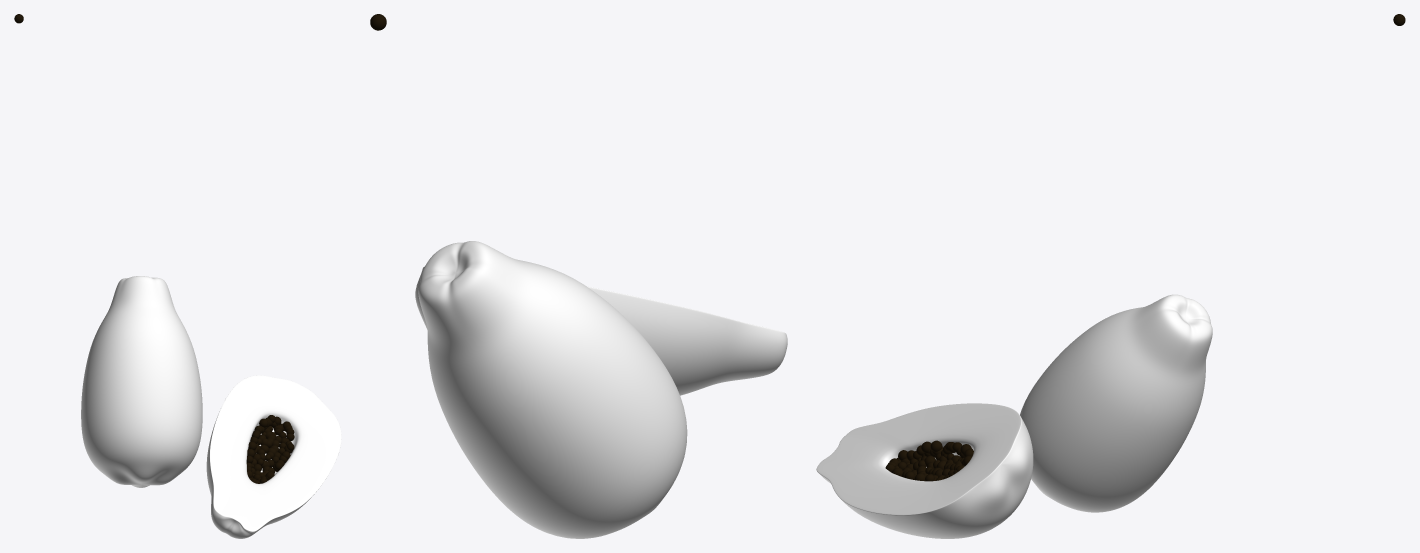
The model's file is Papaya.glb.
The picture shows the model from 3 angles, left to right: view 1: azimuth 30°, elevation 25°; view 2: azimuth 150°, elevation 25°; view 3: azimuth 270°, elevation 25°; orthographic projection. The views are drawn at different scales.
Visible parts, largest first — view 1: Sphere.101, Sphere.102; view 2: Sphere.101, Sphere.102; view 3: Sphere.101, Sphere.102.
Boxes of the visible parts, bbox=[...] form: Sphere.101: bbox=[81, 276, 202, 487]; Sphere.102: bbox=[206, 375, 341, 538]; Sphere.101: bbox=[418, 241, 687, 538]; Sphere.102: bbox=[415, 266, 787, 395]; Sphere.101: bbox=[1020, 294, 1212, 512]; Sphere.102: bbox=[816, 403, 1033, 538].
Bounding box in the file's own units: 5.98 × 11.38 × 12.43.
